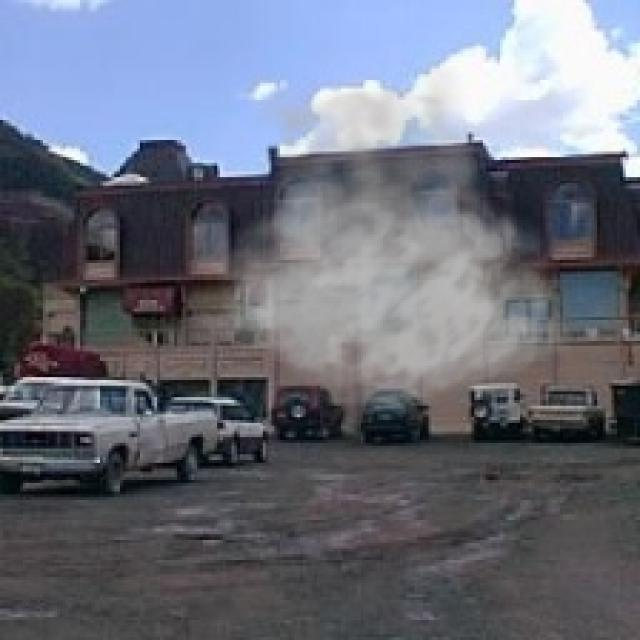Smoke: (192, 57, 572, 409)
